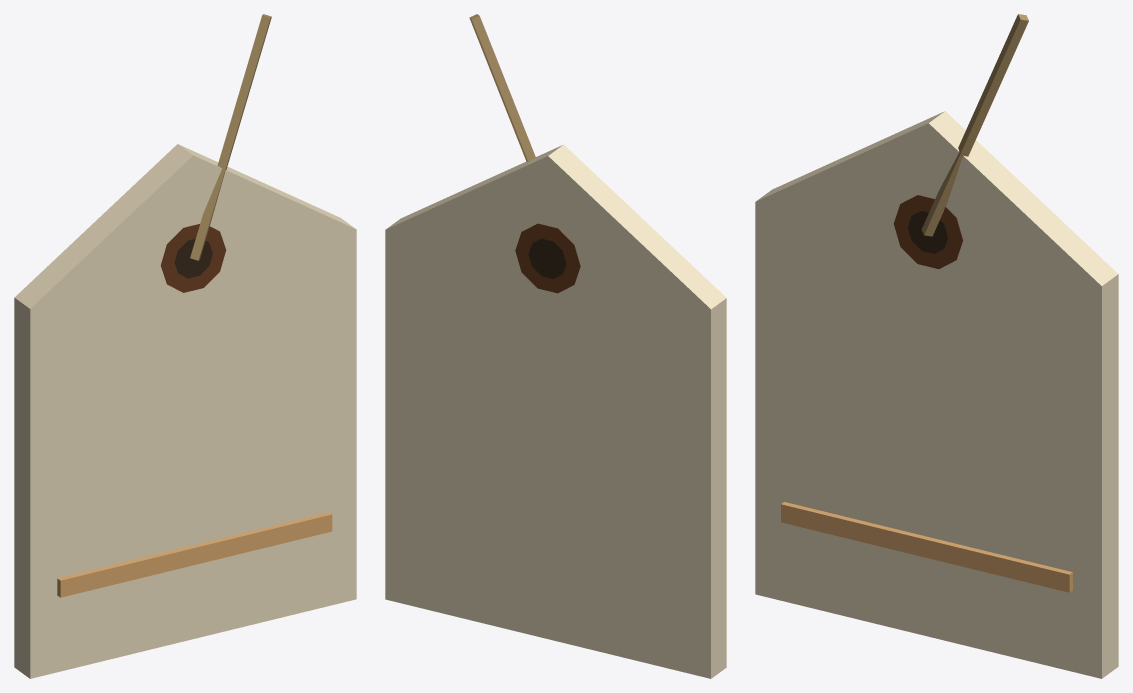
File: etiqueta_precio.glb
3 renders of one model, left to right at view 1: azimuth 30°, elevation 25°; view 2: azimuth 150°, elevation 25°; view 3: azimuth 330°, elevation 25°, orthographic. The views are drawn at different scales.
Parts seen in each view (by area): view 1: etiqueta_precio_ui_papel, etiqueta_precio_ui_madera_clara, etiqueta_precio_ui_cuerda, etiqueta_precio_ui_madera_osc, etiqueta_precio_ui_fondo_barra; view 2: etiqueta_precio_ui_papel, etiqueta_precio_ui_madera_osc, etiqueta_precio_ui_cuerda, etiqueta_precio_ui_fondo_barra; view 3: etiqueta_precio_ui_papel, etiqueta_precio_ui_madera_clara, etiqueta_precio_ui_cuerda, etiqueta_precio_ui_madera_osc, etiqueta_precio_ui_fondo_barra.
Boxes of the visible parts, bbox=[...] form: etiqueta_precio_ui_papel: bbox=[14, 144, 356, 678]; etiqueta_precio_ui_madera_clara: bbox=[57, 512, 332, 597]; etiqueta_precio_ui_cuerda: bbox=[190, 14, 271, 260]; etiqueta_precio_ui_madera_osc: bbox=[160, 224, 226, 292]; etiqueta_precio_ui_fondo_barra: bbox=[174, 238, 212, 278]; etiqueta_precio_ui_papel: bbox=[385, 144, 726, 678]; etiqueta_precio_ui_madera_osc: bbox=[515, 223, 580, 293]; etiqueta_precio_ui_cuerda: bbox=[469, 14, 535, 161]; etiqueta_precio_ui_fondo_barra: bbox=[528, 238, 566, 278]; etiqueta_precio_ui_papel: bbox=[755, 111, 1118, 678]; etiqueta_precio_ui_madera_clara: bbox=[781, 502, 1072, 592]; etiqueta_precio_ui_cuerda: bbox=[921, 14, 1028, 236]; etiqueta_precio_ui_madera_osc: bbox=[893, 195, 963, 268]; etiqueta_precio_ui_fondo_barra: bbox=[908, 210, 948, 253].
Size of the model in its own units: 0.6 by 1.05 by 0.067.
